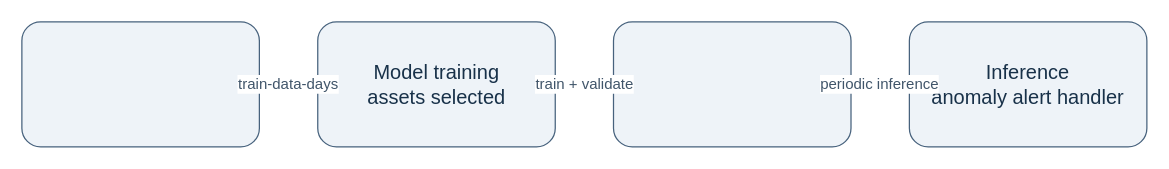
Image size: 1169x169. Some labels were removed from this diagram. Here are the shapes that lost their labels. From the top down, the box of each, then its label:
(21, 21, 259, 147): Historical logs users + endpoints
(612, 21, 851, 147): Artifact held-out test + deploy
